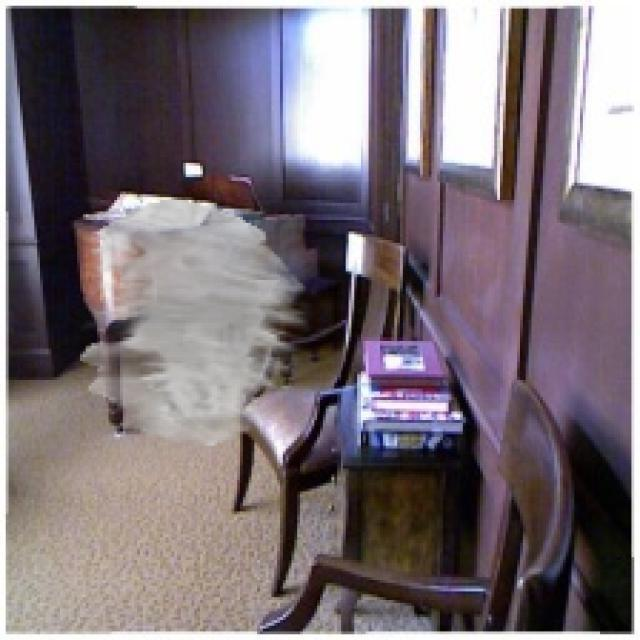Smoke: (80, 200, 309, 446)
